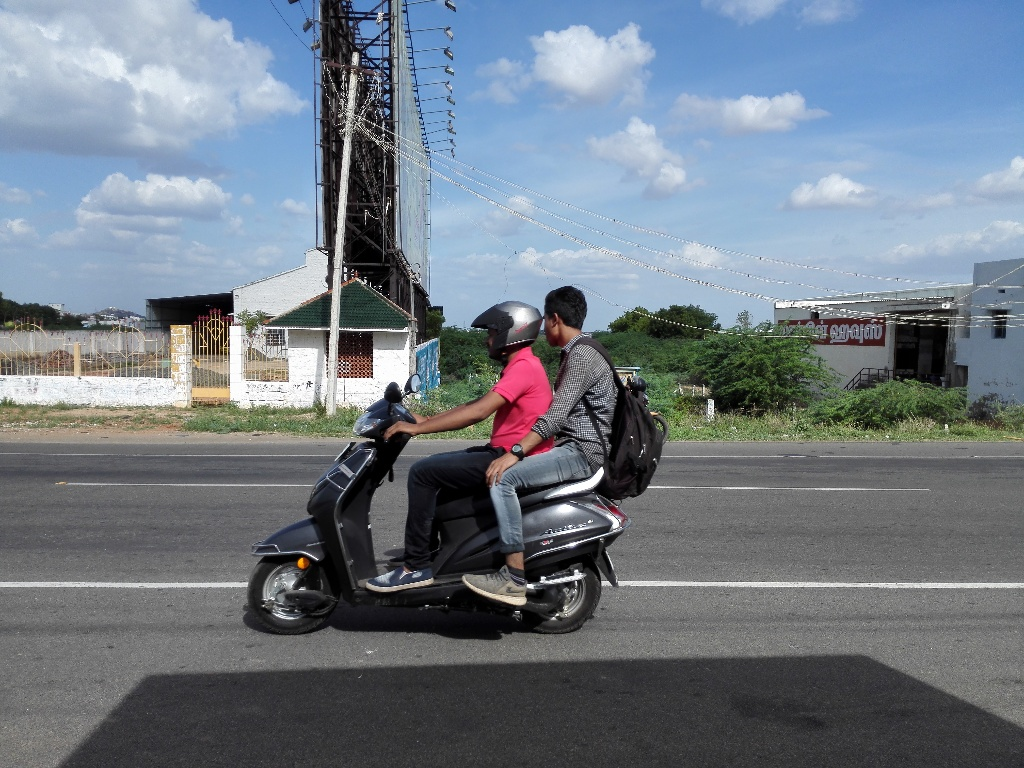biker: (218, 242, 675, 650)
helmet: (466, 283, 543, 365)
nohelmet: (540, 278, 601, 353)
